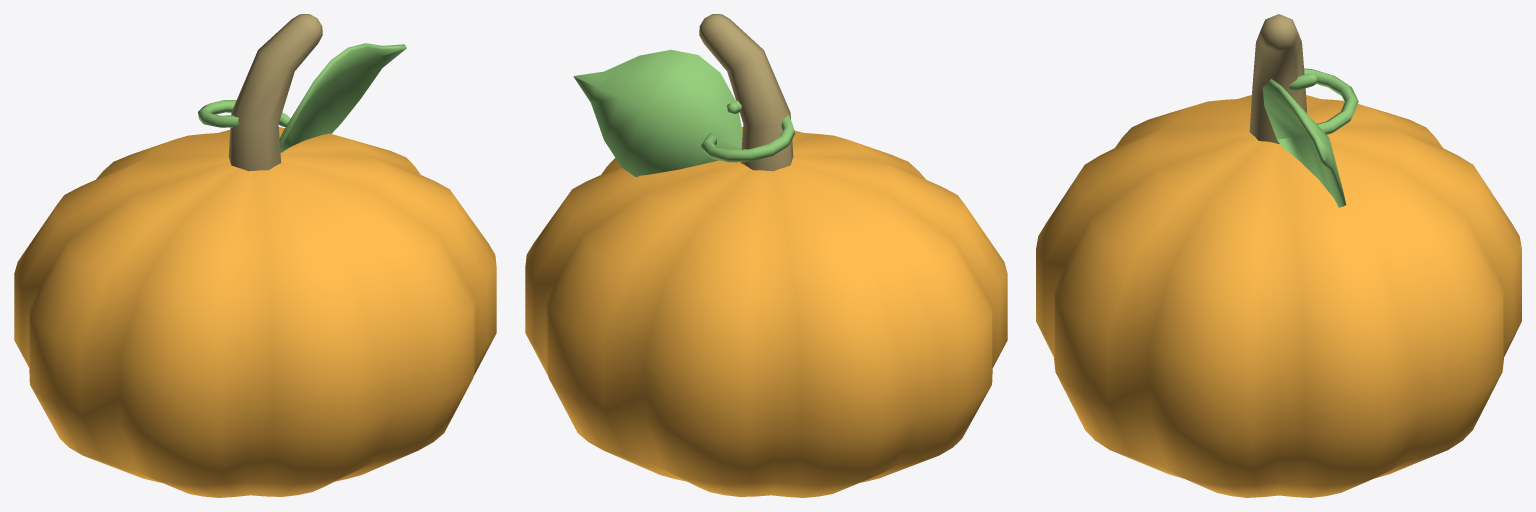
File: veg_pumpkin.glb
3 views of the same model, side by side, from view 1: azimuth 30°, elevation 25°; view 2: azimuth 150°, elevation 25°; view 3: azimuth 270°, elevation 25° (orthographic). The views are drawn at different scales.
Parts seen in each view (by area): view 1: veg_pumpkin; view 2: veg_pumpkin; view 3: veg_pumpkin.
Part boxes in pixels (x1,y1,x2,y2): veg_pumpkin: [14, 14, 496, 497]; veg_pumpkin: [525, 14, 1007, 497]; veg_pumpkin: [1036, 14, 1521, 497].
Bounding box in the file's own units: 0.5906 × 0.5718 × 0.5487.
